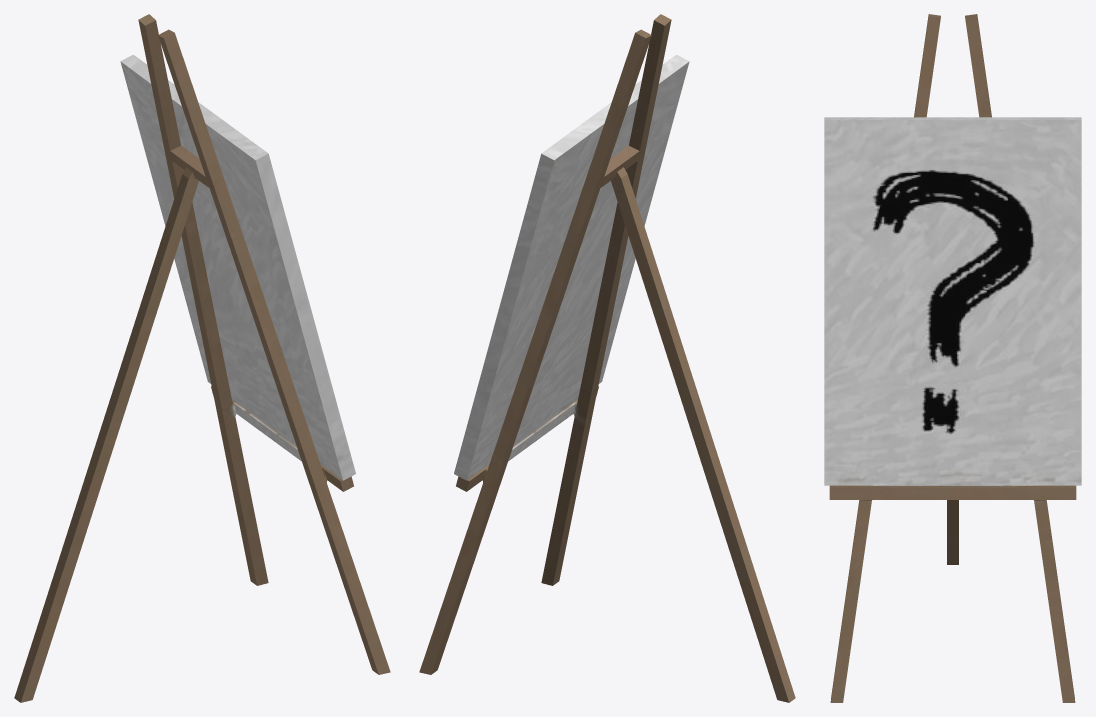
The model's file is finalPainting.gltf.
3 renders of one model, left to right at view 1: azimuth 30°, elevation 25°; view 2: azimuth 150°, elevation 25°; view 3: azimuth 270°, elevation 25°, orthographic. The views are drawn at different scales.
Parts seen in each view (by area): view 1: easel.004, painting1.003; view 2: easel.004, painting1.003; view 3: painting1.003, easel.004.
Part boxes in pixels (x1,y1,x2,y2): easel.004: [14, 14, 390, 702]; painting1.003: [120, 54, 355, 480]; easel.004: [419, 14, 795, 702]; painting1.003: [454, 54, 689, 480]; painting1.003: [824, 117, 1081, 485]; easel.004: [829, 14, 1076, 702].
Size of the model in its own units: 0.055 by 0.1093 by 0.0417.
2 materials, 2 textured.
